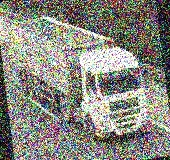truck: (7, 6, 152, 151)
